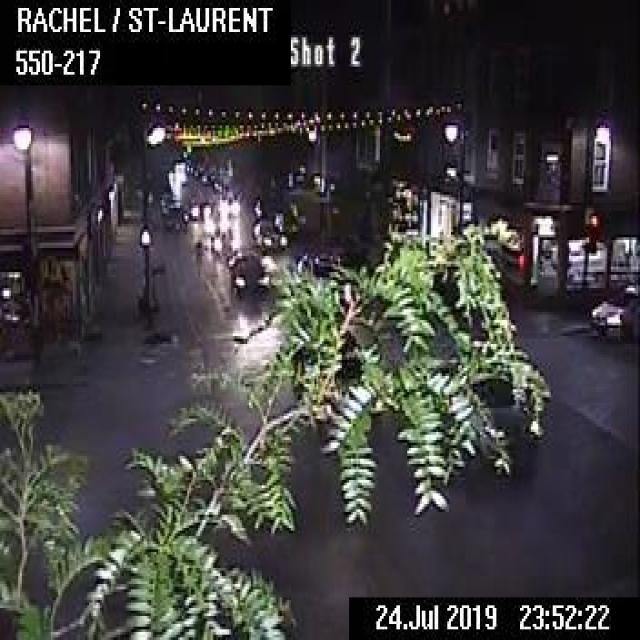vehicle: (420, 353, 534, 461), (286, 322, 386, 423), (294, 251, 355, 313), (589, 280, 638, 341), (225, 244, 267, 298), (250, 217, 286, 249), (162, 204, 188, 231), (216, 195, 240, 216), (186, 198, 208, 216)
